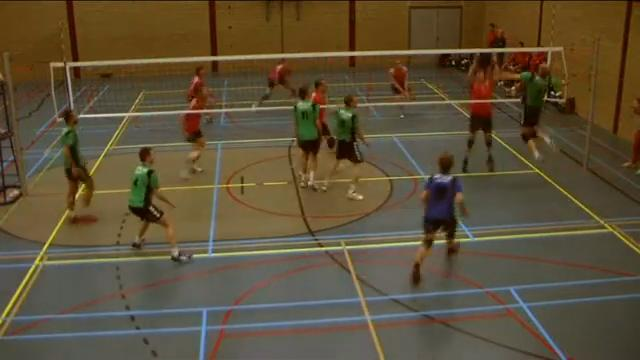Attack: (493, 51, 581, 166)
Block: (459, 49, 497, 174)
Player: (412, 152, 467, 284), (128, 147, 191, 262), (322, 95, 367, 199), (61, 110, 96, 222), (294, 85, 320, 190), (252, 59, 295, 107), (311, 79, 334, 148), (181, 113, 205, 178), (187, 66, 212, 102), (389, 61, 409, 101)
